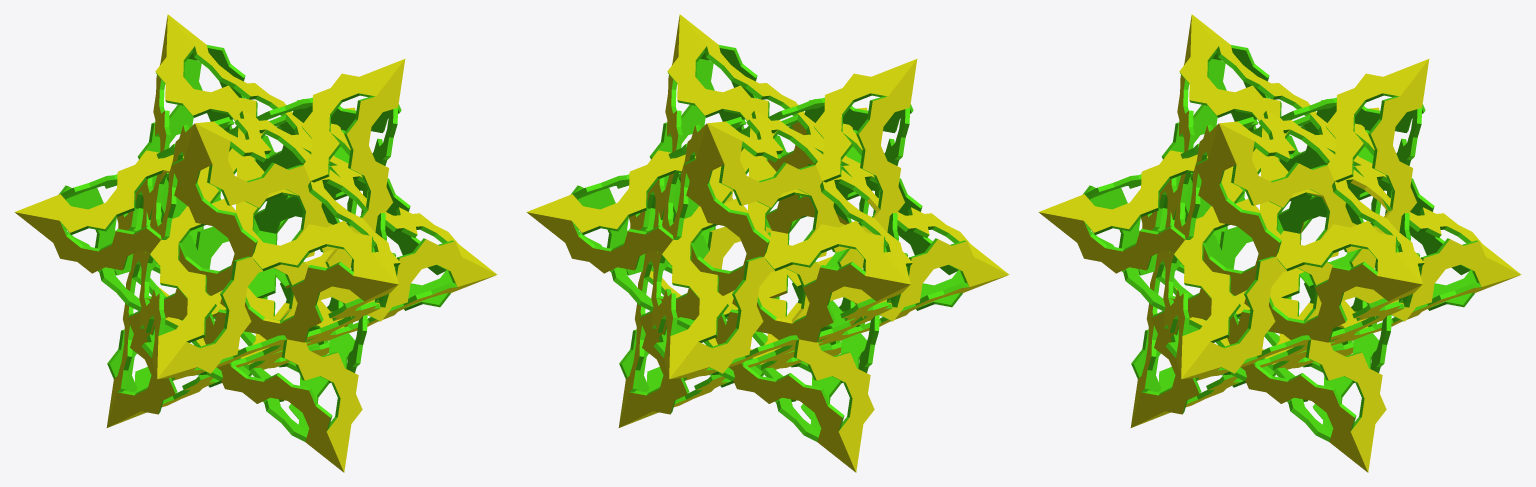
File: StarDodecahedronPolyknot31.glb
The picture shows the model from 3 angles, left to right: view 1: azimuth 30°, elevation 25°; view 2: azimuth 150°, elevation 25°; view 3: azimuth 270°, elevation 25°; orthographic projection.
Parts seen in each view (by area): view 1: ESCHER_5.0_TELLATED_DODECAHEDRON_1Augmented_Penta_Prism; view 2: ESCHER_5.0_TELLATED_DODECAHEDRON_1Augmented_Penta_Prism; view 3: ESCHER_5.0_TELLATED_DODECAHEDRON_1Augmented_Penta_Prism.
Part boxes in pixels (left/top/right/bottom): ESCHER_5.0_TELLATED_DODECAHEDRON_1Augmented_Penta_Prism: left=14, top=14, right=497, bottom=472; ESCHER_5.0_TELLATED_DODECAHEDRON_1Augmented_Penta_Prism: left=526, top=14, right=1009, bottom=472; ESCHER_5.0_TELLATED_DODECAHEDRON_1Augmented_Penta_Prism: left=1038, top=14, right=1521, bottom=472.
Bounding box in the file's own units: 113 × 100 × 123.
